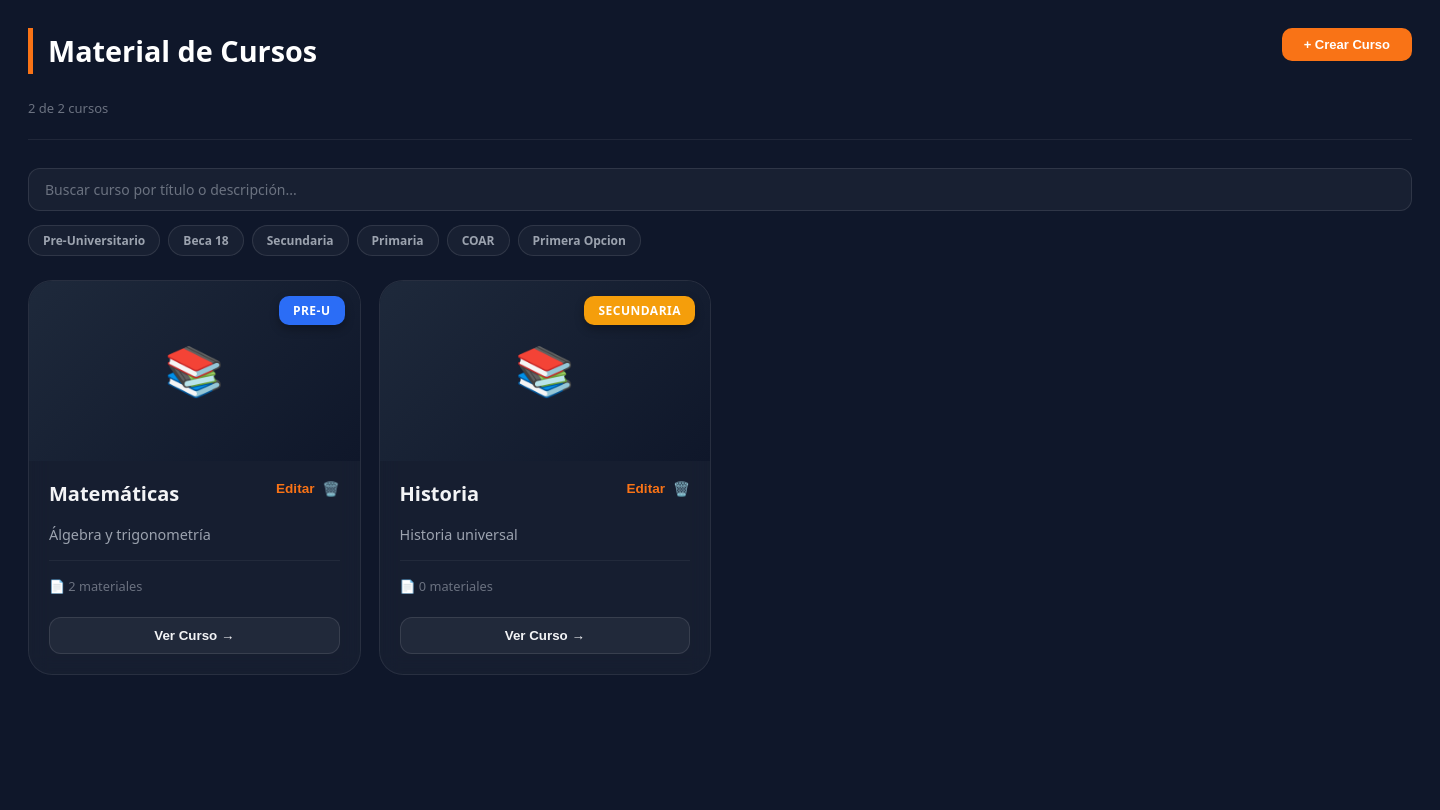
Test: CourseModule › filtra el catálogo por búsqueda
Expected: the heading "Matemáticas" is shown, [49,481,179,507]
Type "mate" into the search field named "Buscar cursos" at (720, 189), box [28,168,1412,211]
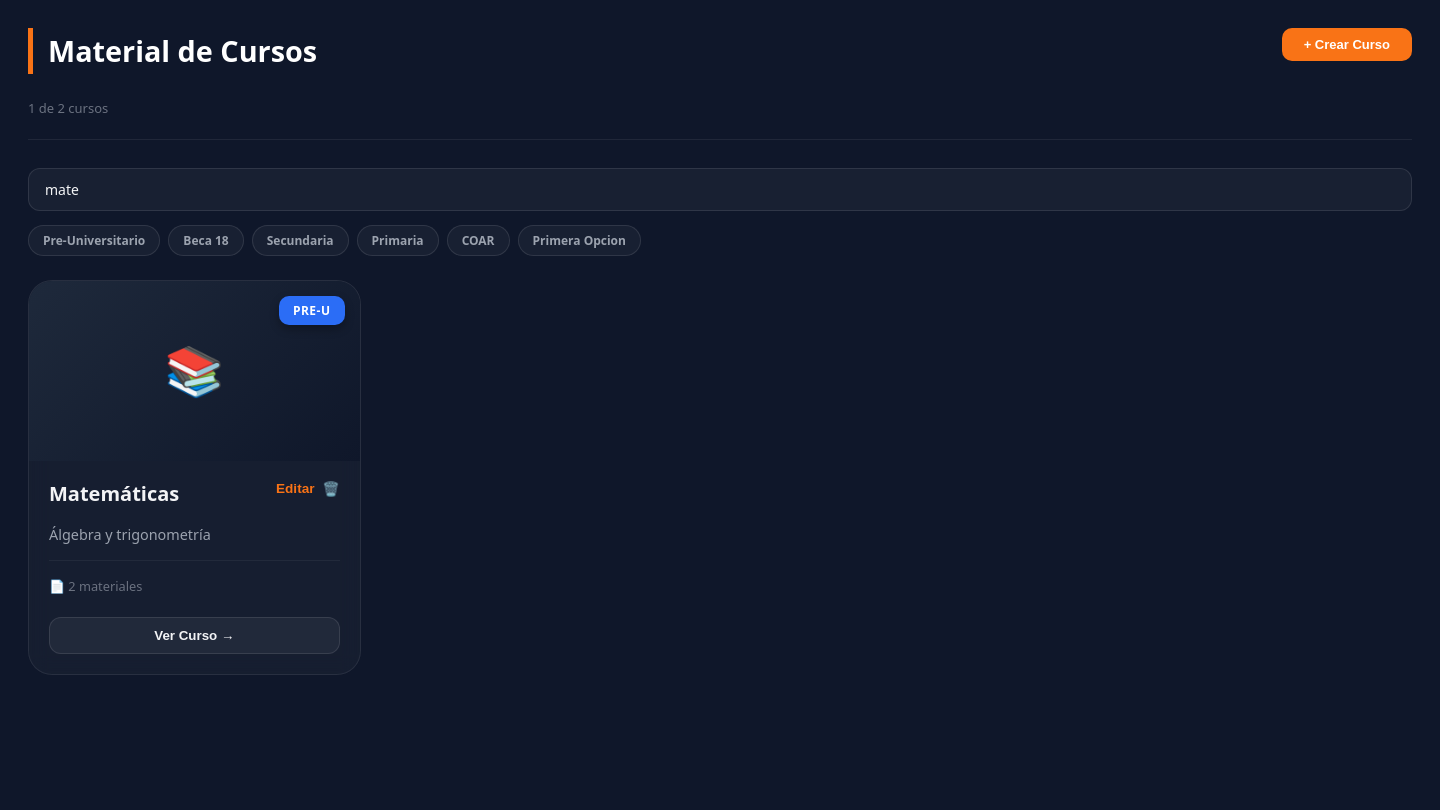
Expected: the heading "Matemáticas" is shown, [49,481,179,507]
Expected: the heading "Historia" is gone
